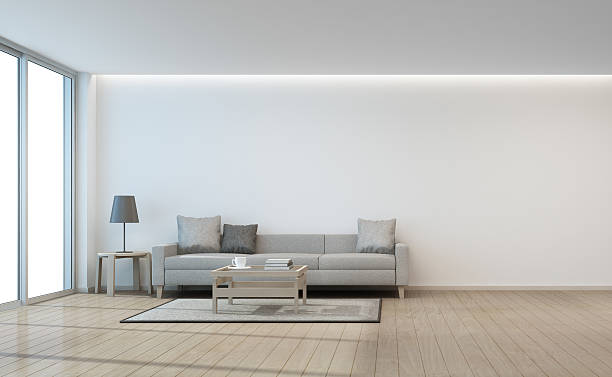side table: (93, 251, 150, 297)
sofa: (149, 214, 412, 301)
table: (209, 259, 312, 316)
table lamp: (107, 193, 141, 254)
